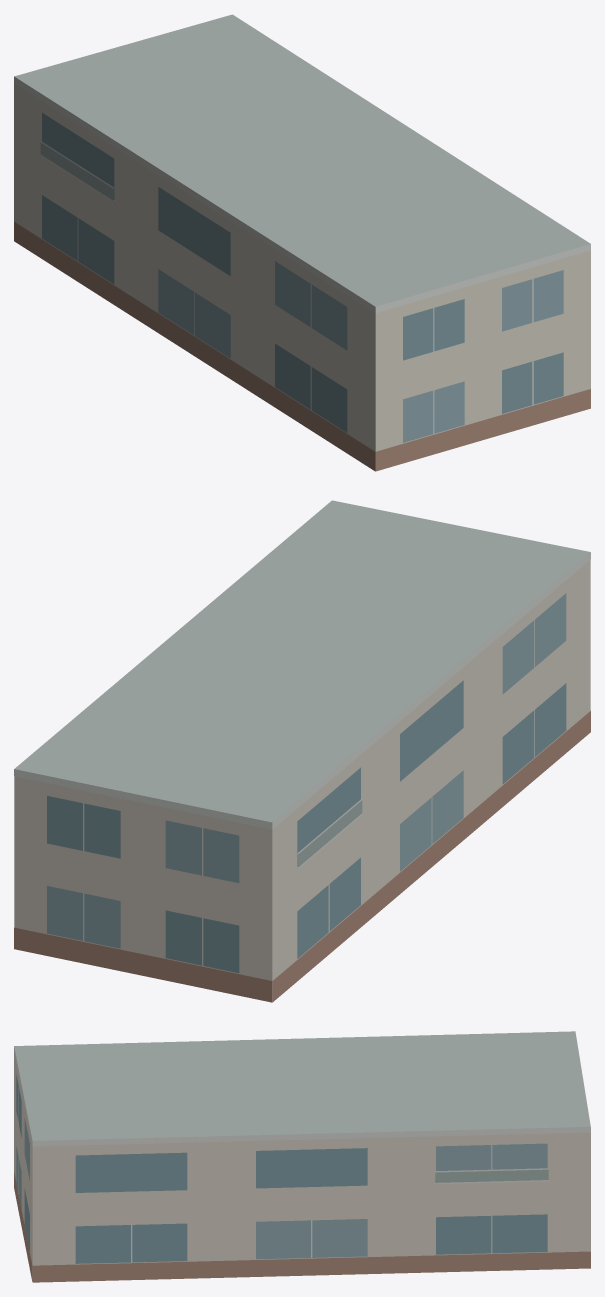
File: survey-upis-32672340.glb
3 views of the same model, one above another, from view 1: azimuth 30°, elevation 25°; view 2: azimuth 150°, elevation 25°; view 3: azimuth 270°, elevation 25° (orthographic). The views are drawn at different scales.
Visible parts, largest first — view 1: survey-upis-32672340.tmp; view 2: survey-upis-32672340.tmp; view 3: survey-upis-32672340.tmp.
Part boxes in pixels (left/top/right/bottom): survey-upis-32672340.tmp: left=14, top=14, right=590, bottom=471; survey-upis-32672340.tmp: left=14, top=500, right=590, bottom=1002; survey-upis-32672340.tmp: left=14, top=1031, right=590, bottom=1282.
Bounding box in the file's own units: 10.13 × 6.1 × 22.52.
